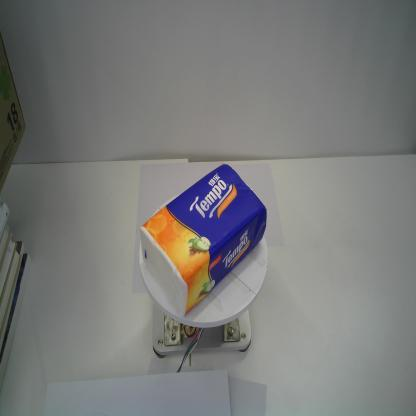Tissue: (137, 160, 268, 320)
